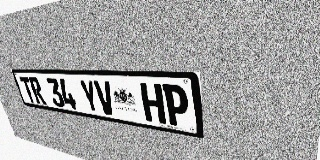3: (46, 78, 65, 108)
4: (57, 78, 78, 110)
H: (140, 83, 166, 124)
P: (162, 84, 190, 128)
R: (28, 77, 47, 105)
T: (19, 77, 37, 103)
V: (93, 80, 117, 116)
Y: (78, 80, 101, 113)
